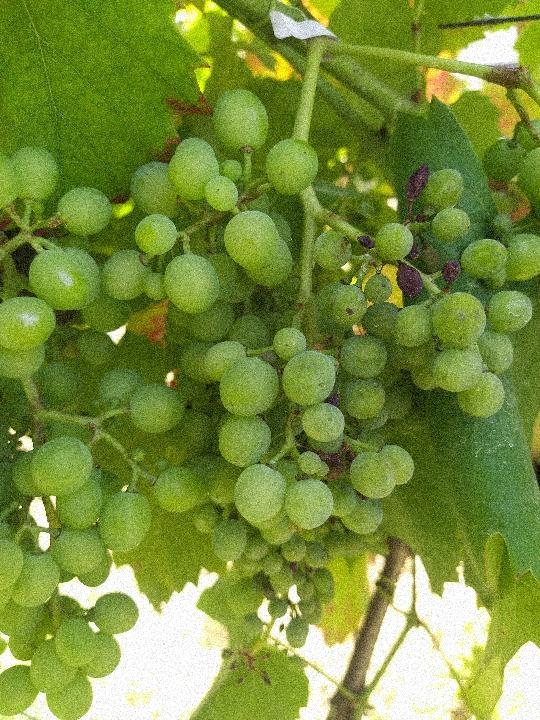grape: (98, 84, 538, 564)
